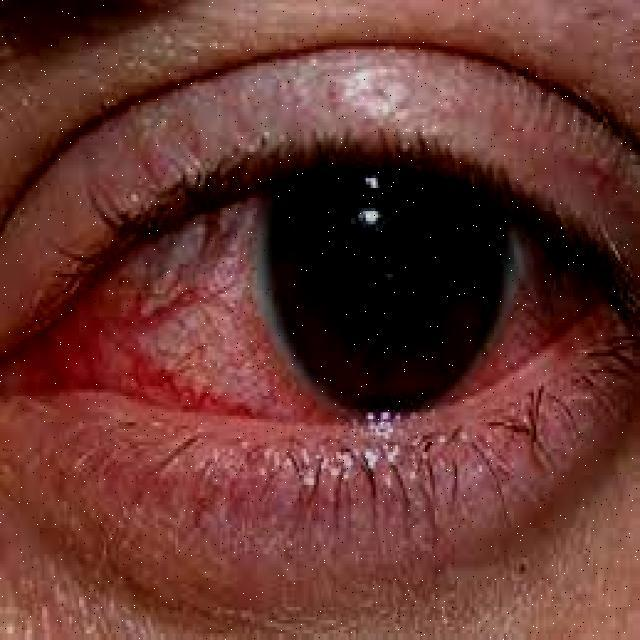Conjunctivitis: (5, 153, 608, 458)
